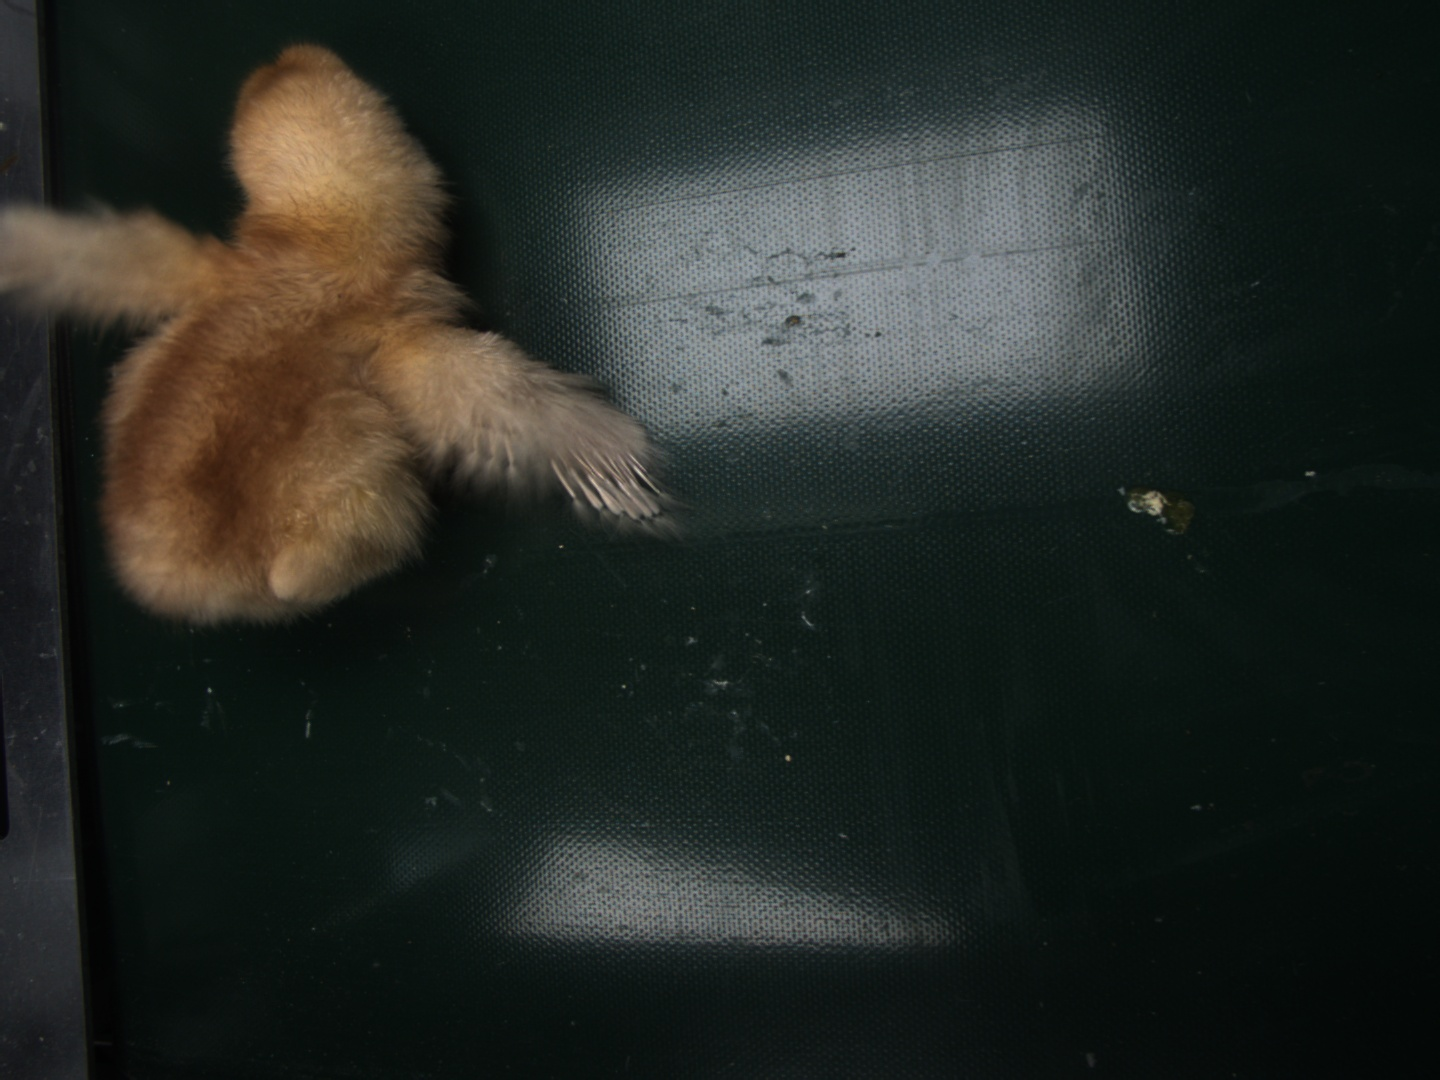female: (548, 445, 664, 521)
